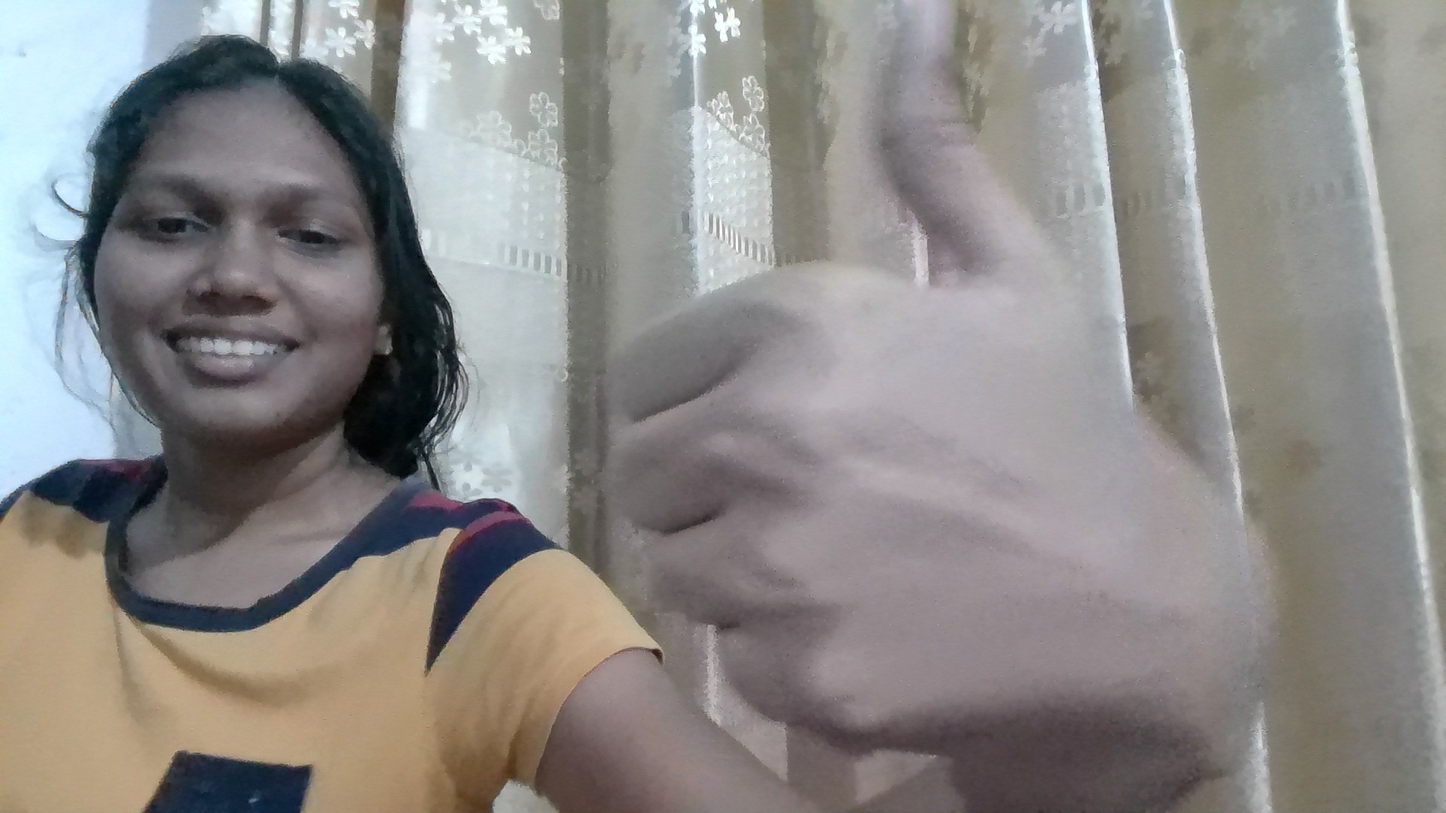Thumbs Up: (606, 0, 1281, 796)
